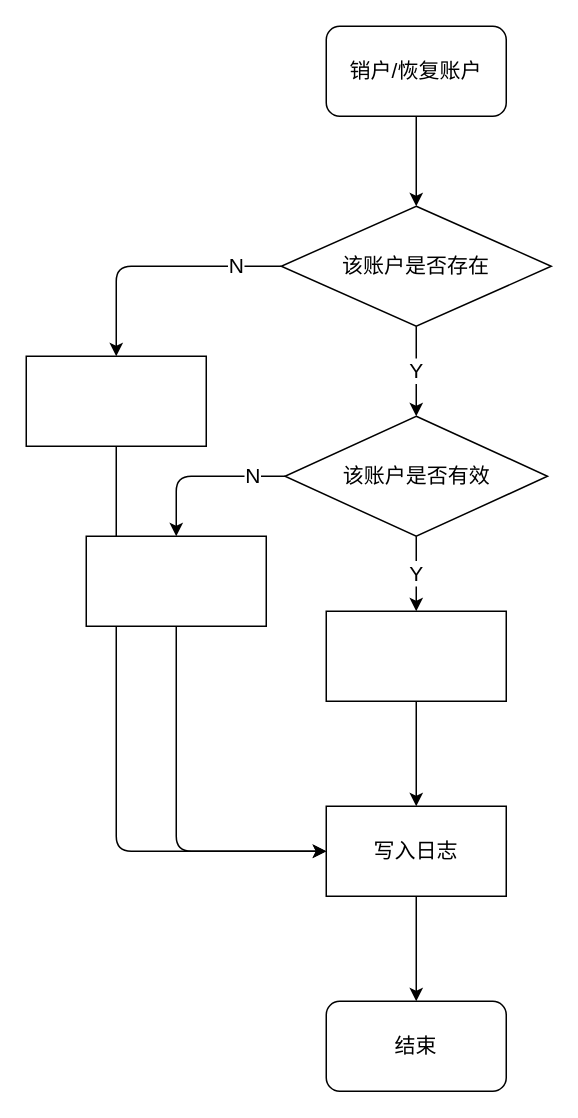
Some shapes in this 578 by 1118 pixel diagram are drawn without their labels. Here are the shapes that lost their labels. From the top down, the centre of each, then its label:
point (115, 400): 错误信息： 无此账户
point (175, 580): 错误信息： 销户失败
point (415, 655): 销户操作 /恢复账户
